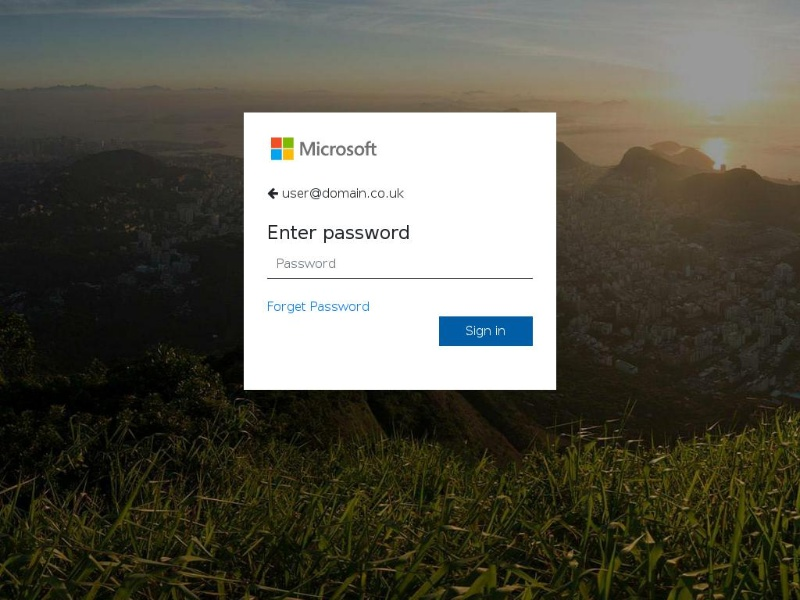msft: (262, 129, 393, 170)
